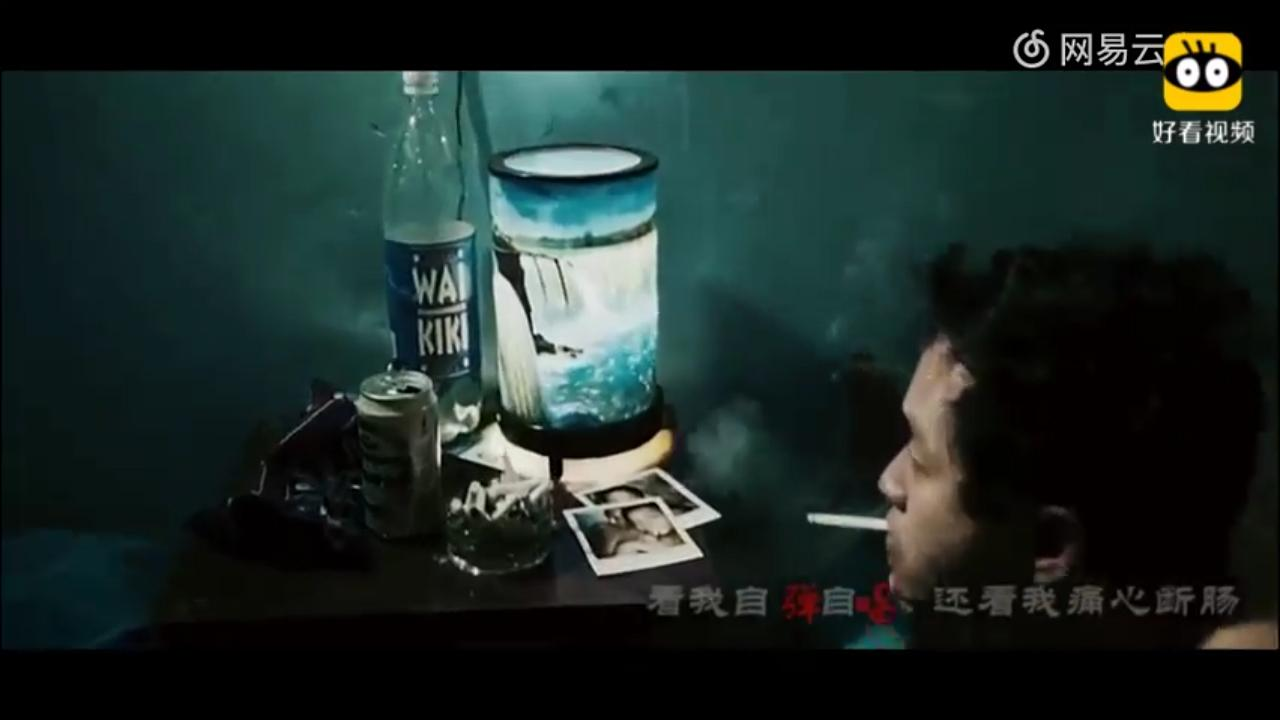Cigarette: (802, 510, 894, 532)
